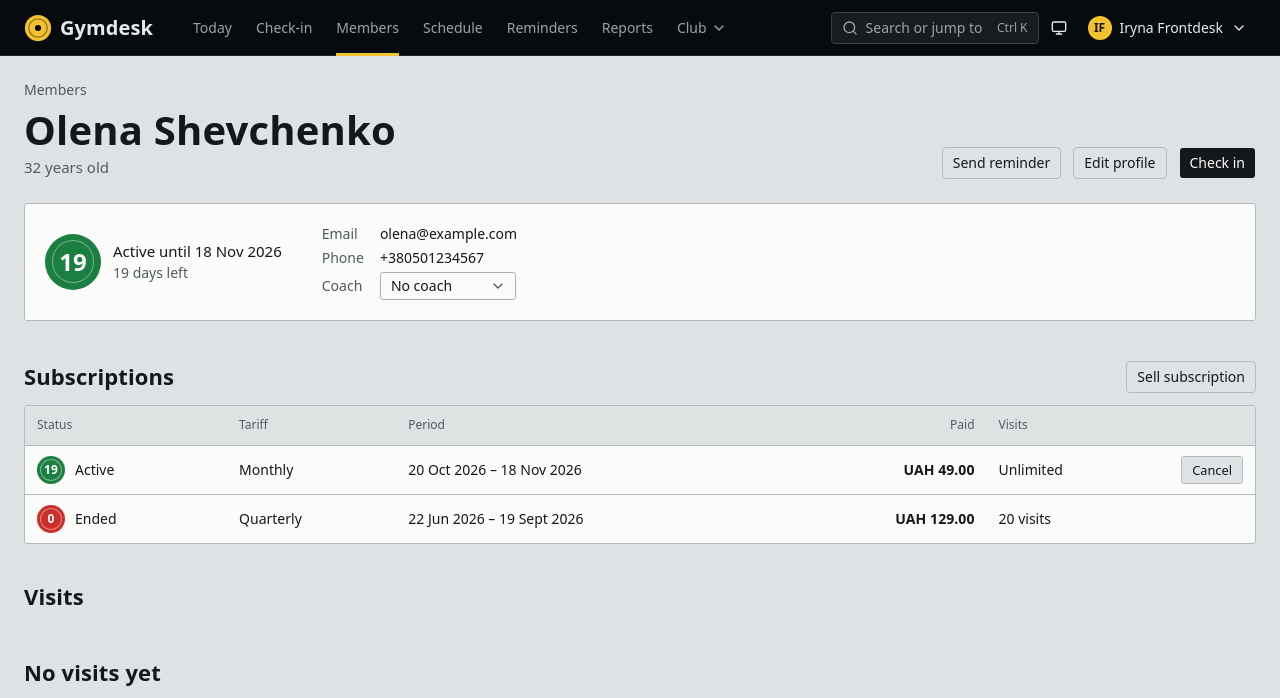
it: selling a subscription › sells the subscription and shows it in the list
Expected: the heading "Olena Shevchenko" is shown, [24,108,396,152]
Click the button "Sell subscription".
click(1191, 376)  # box [1126,360,1256,392]
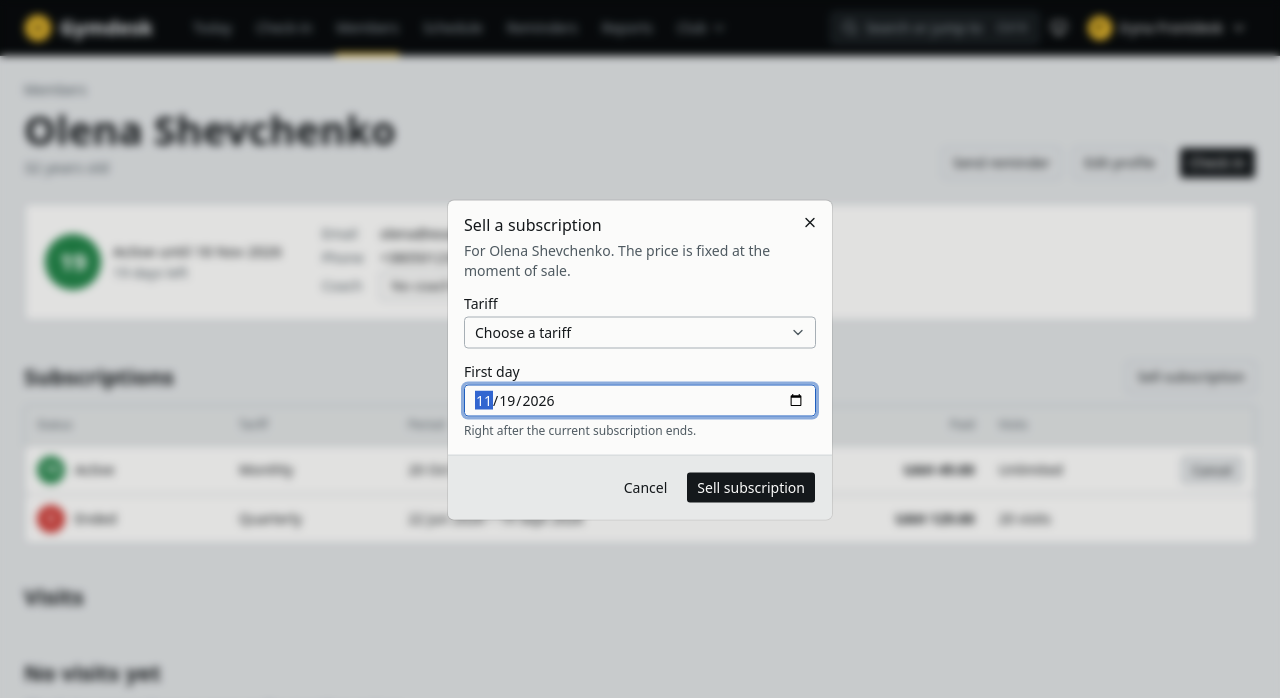
Select "Monthly · UAH 49.00" in the dropdown labelled "Tariff" at x=640, y=332, box [464,316,816,348]
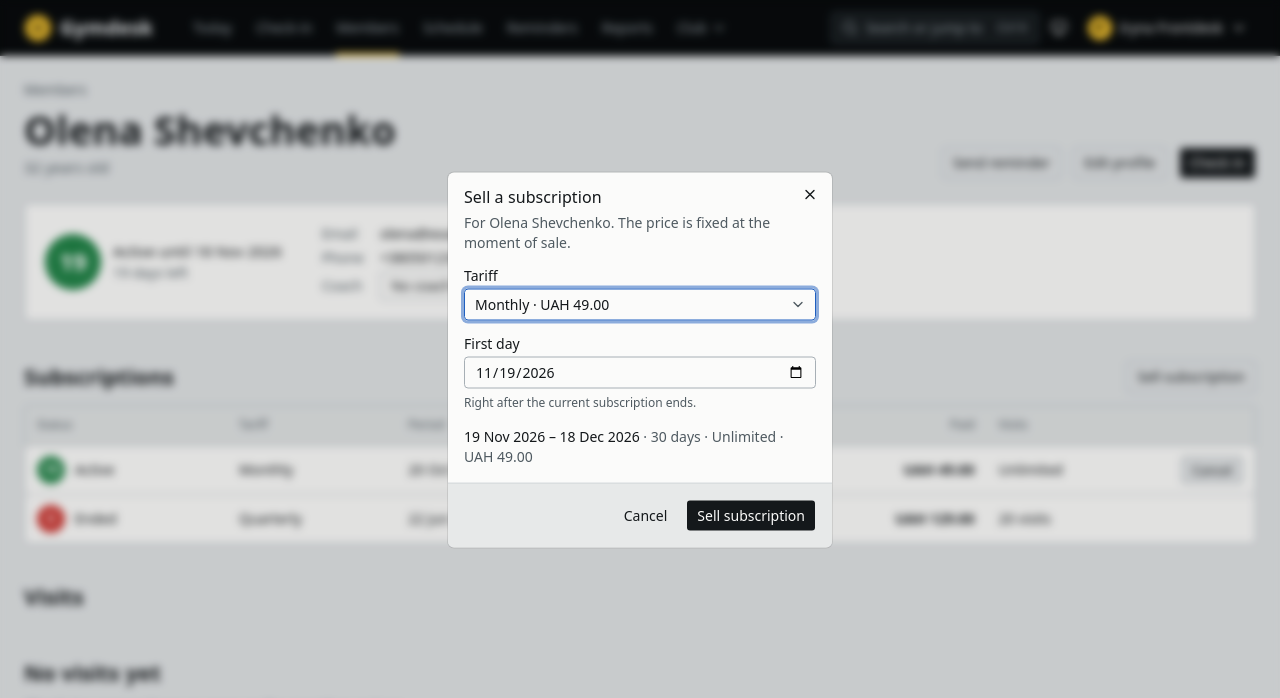
Click the button "Sell subscription".
click(751, 516)  # box [686,500,816,532]
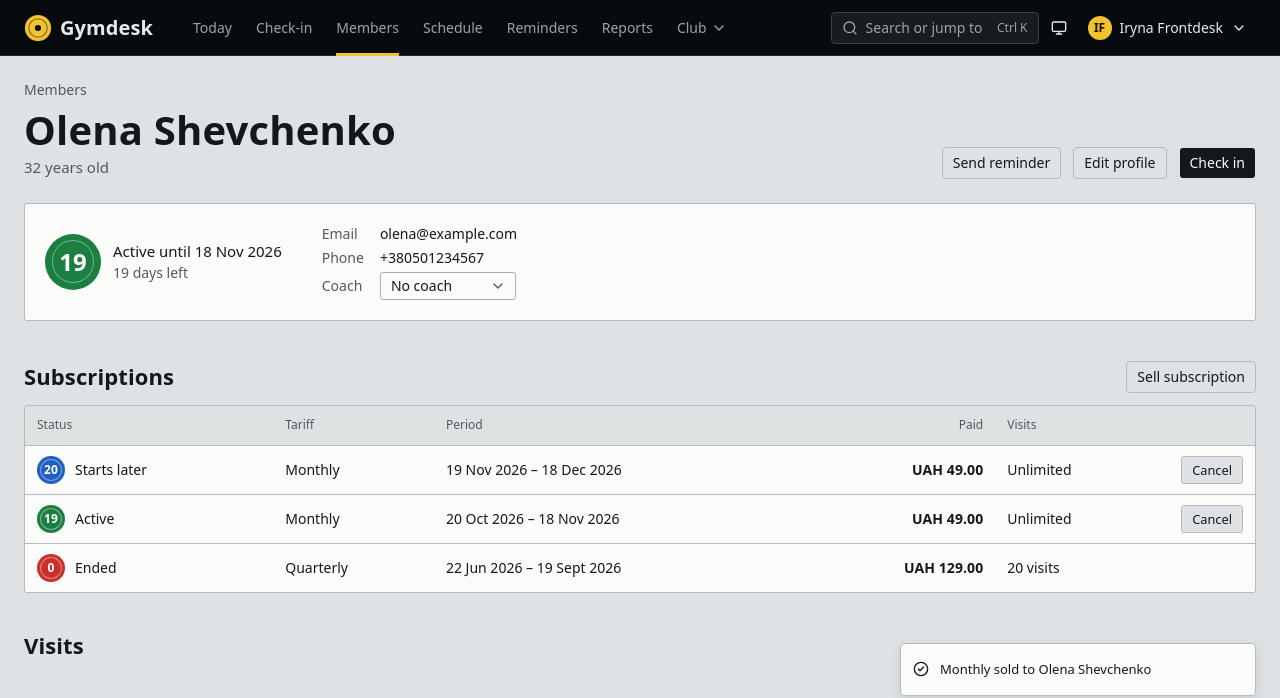
Expected: the text "Monthly sold to Olena Shevchenko" is shown, [940,660,1151,679]
Expected: the dialog is gone
Expected: the text "Starts later" is shown once, [37,456,147,484]
